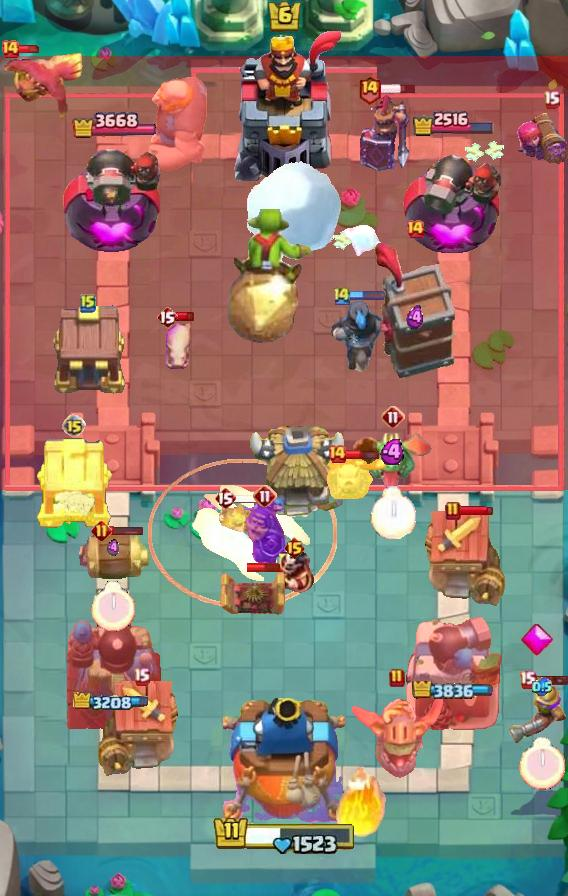balloon: (142, 72, 210, 174)
bat: (342, 223, 386, 259)
bomb: (48, 302, 128, 396), (34, 435, 114, 529)
bomb-tower: (504, 681, 568, 747)
clock: (212, 812, 356, 854)
dart-goblin: (373, 241, 457, 379)
electro-spirit: (381, 439, 407, 465), (406, 306, 425, 331), (532, 677, 552, 697), (107, 539, 119, 557)
electro-wizard: (352, 431, 434, 497)
elixir: (370, 486, 416, 539), (519, 738, 565, 791), (91, 580, 135, 631)
elixir-golem-big: (360, 93, 412, 175)
emote: (344, 447, 380, 460), (379, 83, 416, 95), (458, 505, 494, 517), (233, 493, 271, 504), (534, 674, 568, 686), (350, 290, 386, 301), (108, 525, 144, 536), (247, 563, 281, 574), (10, 44, 42, 54), (177, 311, 196, 322)
firecracker-evolution: (244, 500, 286, 570)
giant: (163, 319, 195, 371)
goblin-brawler: (219, 569, 289, 619)
ice-spirit-evolution: (217, 500, 259, 536)
ice-wizard: (147, 459, 336, 609)
inferno-dragon: (329, 296, 385, 372)
king-tower: (223, 31, 345, 181), (223, 698, 345, 826)
lumberjack: (273, 549, 315, 597)
mega-minion: (512, 113, 568, 175)
mini-pekka: (311, 450, 391, 500)
mother-witch: (0, 45, 86, 129)
night-witch: (349, 692, 445, 780)
prince: (247, 426, 349, 522)
selected: (72, 110, 156, 142), (411, 109, 495, 137), (73, 692, 155, 714), (412, 681, 494, 699)
skeleton-king-skill: (521, 623, 553, 657)
sparky: (419, 510, 505, 608), (98, 680, 184, 778)
text: (357, 74, 382, 105), (381, 405, 405, 429), (62, 414, 86, 438), (253, 484, 277, 508), (283, 536, 306, 560), (156, 305, 178, 329), (214, 486, 236, 510), (91, 519, 112, 541), (332, 285, 352, 307), (0, 39, 20, 59), (405, 219, 425, 239), (327, 444, 347, 464), (133, 666, 151, 685), (543, 91, 561, 109), (519, 671, 536, 690), (80, 293, 96, 313), (445, 501, 461, 521), (389, 668, 405, 688)
the-log: (75, 533, 151, 583)
tower-bar: (64, 601, 164, 731), (62, 138, 166, 256), (402, 615, 504, 731), (403, 138, 503, 256)
valkyrie: (333, 752, 393, 842)
wall-breaker: (246, 159, 343, 254)
x-bow: (225, 209, 315, 347)
